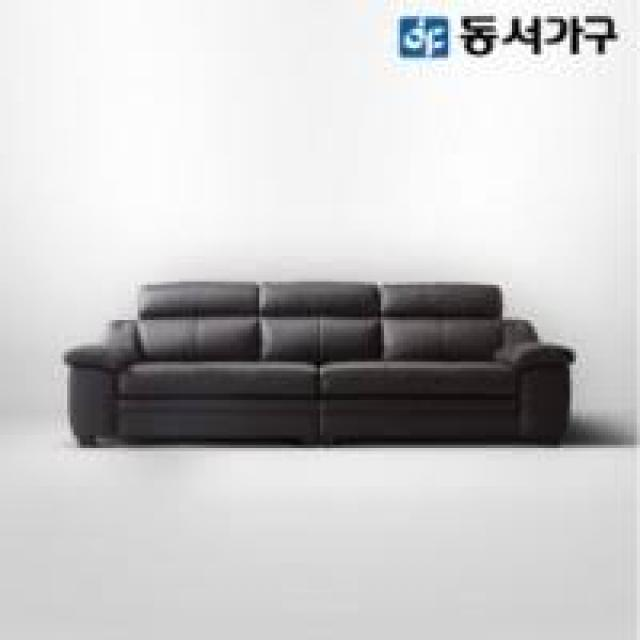Sofa: (39, 240, 599, 475)
